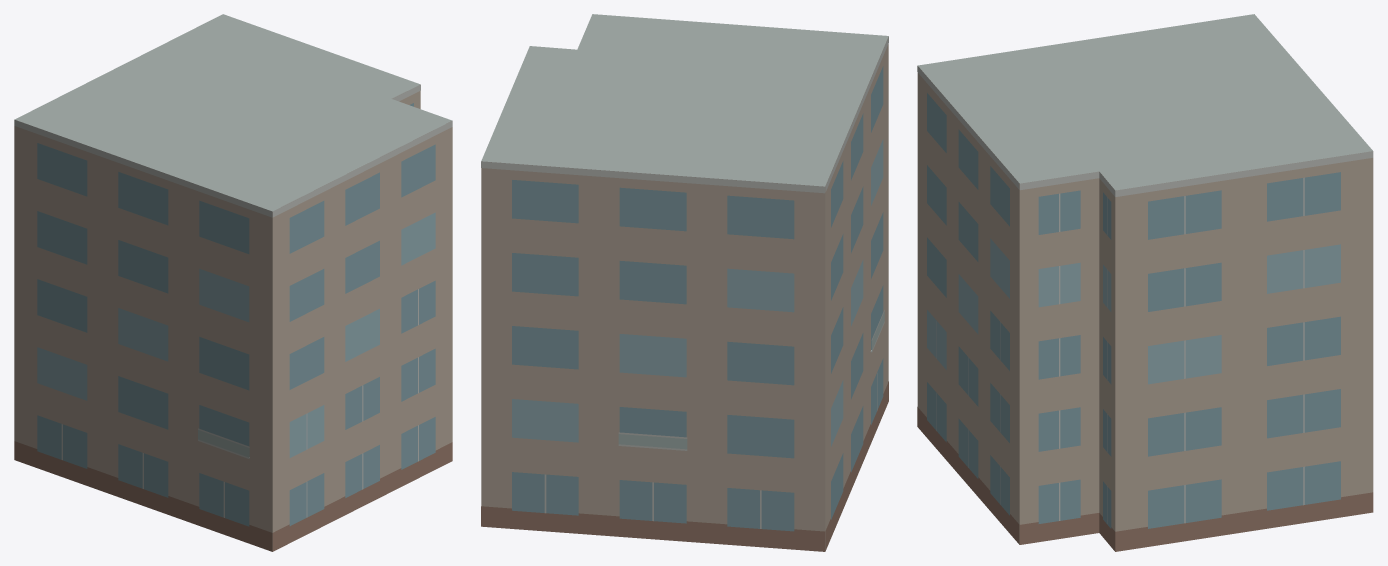
The model's file is survey-upis-32946126.glb.
3 views of the same model, side by side, from view 1: azimuth 30°, elevation 25°; view 2: azimuth 150°, elevation 25°; view 3: azimuth 270°, elevation 25° (orthographic). The views are drawn at different scales.
Visible parts, largest first — view 1: survey-upis-32946126.tmp; view 2: survey-upis-32946126.tmp; view 3: survey-upis-32946126.tmp.
Boxes of the visible parts, left/top/right/bottom form: survey-upis-32946126.tmp: left=14, top=14, right=452, bottom=551; survey-upis-32946126.tmp: left=481, top=14, right=888, bottom=551; survey-upis-32946126.tmp: left=917, top=14, right=1373, bottom=551.
Size of the model in its own units: 13.94 by 13.3 by 15.22.
